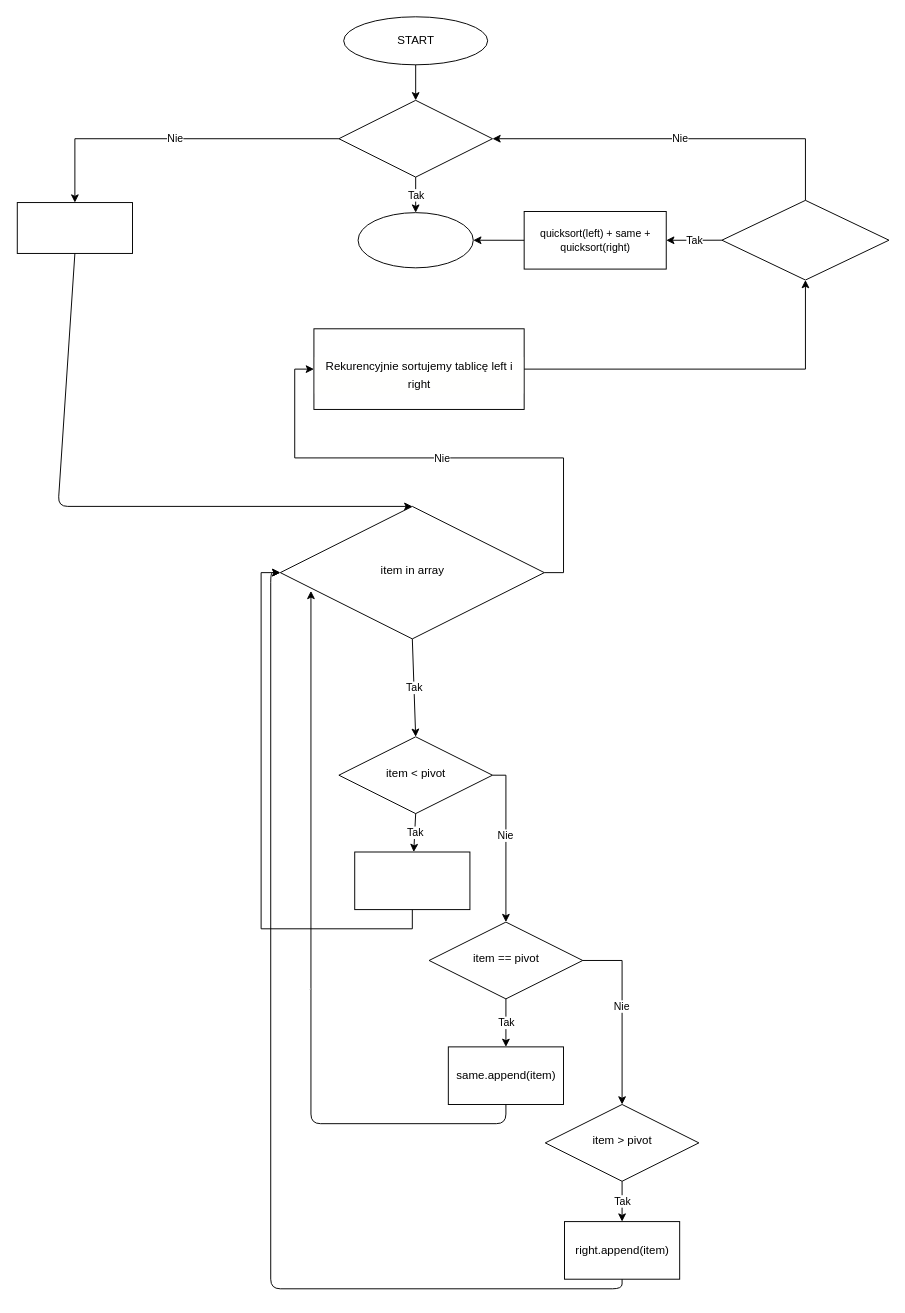
Image size: 905x1313. Some labels were removed from this diagram. The shapes that lost their labels are listed below. From the top down, each one's centre as x and y in pixels, then its label:
At (415,138): "len(array) < 2".
At (74,227): "Losujemt element osiowy pivot".
At (415,240): "KONIEC".
At (805,239): "Wszystkie podtablicę posortowane".
At (412,880): "left.append(item)".
